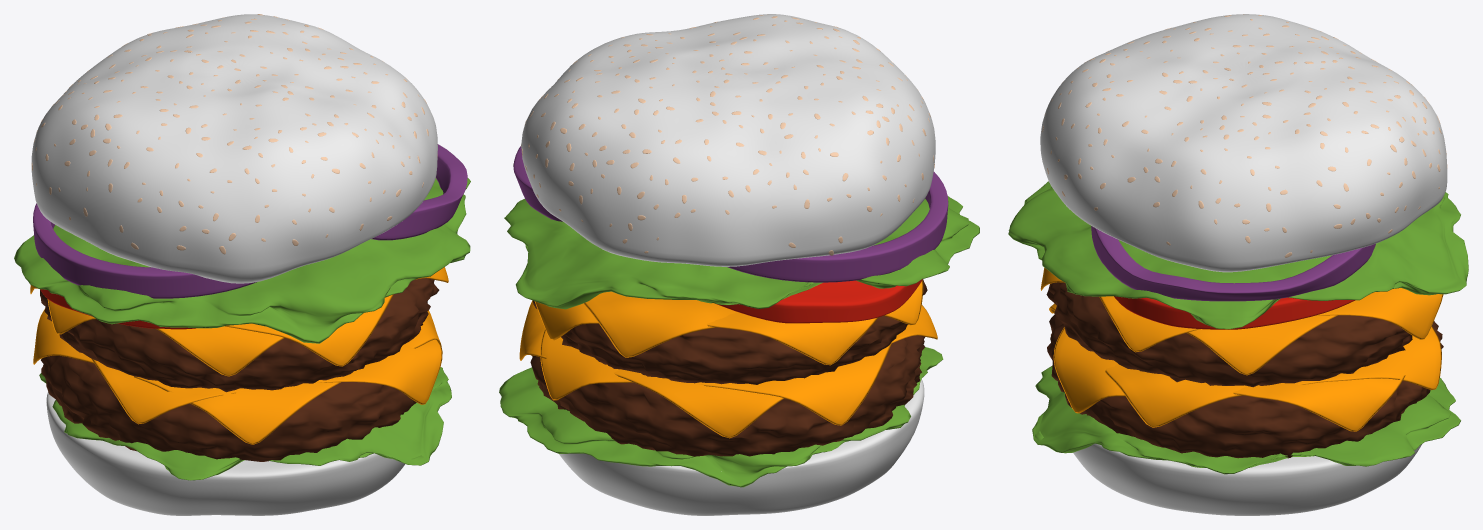
File: burger.fbx
The picture shows the model from 3 angles, left to right: view 1: azimuth 30°, elevation 25°; view 2: azimuth 150°, elevation 25°; view 3: azimuth 270°, elevation 25°; orthographic projection.
Visible parts, largest first — view 1: topbun, lettuce, bottombun, patty, patty2, cheese, lettuce.001, cheese2, onion2, onion, tomato.001; view 2: topbun, lettuce, patty, bottombun, cheese, cheese2, patty2, lettuce.001, onion2, tomato.001, onion; view 3: topbun, lettuce, cheese, bottombun, patty2, patty, lettuce.001, cheese2, onion, tomato.
Part boxes in pixels (x1,y1,x2,y2): topbun: (31, 14, 437, 283); lettuce: (14, 178, 470, 343); bottombun: (46, 392, 405, 515); patty: (41, 355, 416, 461); patty2: (40, 278, 439, 392); cheese: (33, 309, 442, 444); lettuce.001: (39, 367, 451, 480); cheese2: (30, 267, 448, 376); onion2: (33, 203, 256, 298); onion: (371, 144, 467, 240); tomato.001: (40, 289, 195, 329); topbun: (521, 14, 935, 266); lettuce: (504, 164, 979, 309); patty: (530, 335, 924, 456); bottombun: (559, 379, 924, 515); cheese: (519, 300, 937, 438); cheese2: (534, 280, 923, 365); patty2: (532, 279, 927, 384); lettuce.001: (499, 347, 943, 487); onion2: (727, 171, 948, 282); tomato.001: (715, 279, 922, 323); onion: (513, 146, 562, 221); topbun: (1040, 14, 1447, 272); lettuce: (1008, 181, 1468, 329); cheese: (1049, 303, 1441, 431); bottombun: (1073, 443, 1421, 515); patty2: (1046, 282, 1412, 387); patty: (1047, 314, 1443, 458); lettuce.001: (1032, 366, 1460, 474); cheese2: (1040, 267, 1443, 375); onion: (1091, 226, 1375, 301); tomato: (1114, 296, 1355, 329).
Size of the model in its own units: 343 by 291 by 318.
